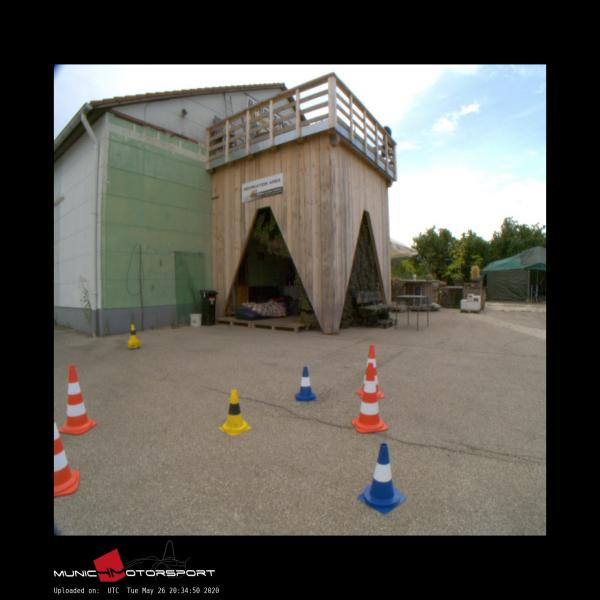blue_cone: (357, 443, 406, 515), (295, 366, 315, 400)
large_orange_cone: (58, 366, 96, 434), (351, 362, 387, 432), (54, 416, 80, 496), (356, 344, 384, 399)
yellow_cone: (219, 390, 251, 434), (127, 324, 138, 341)
